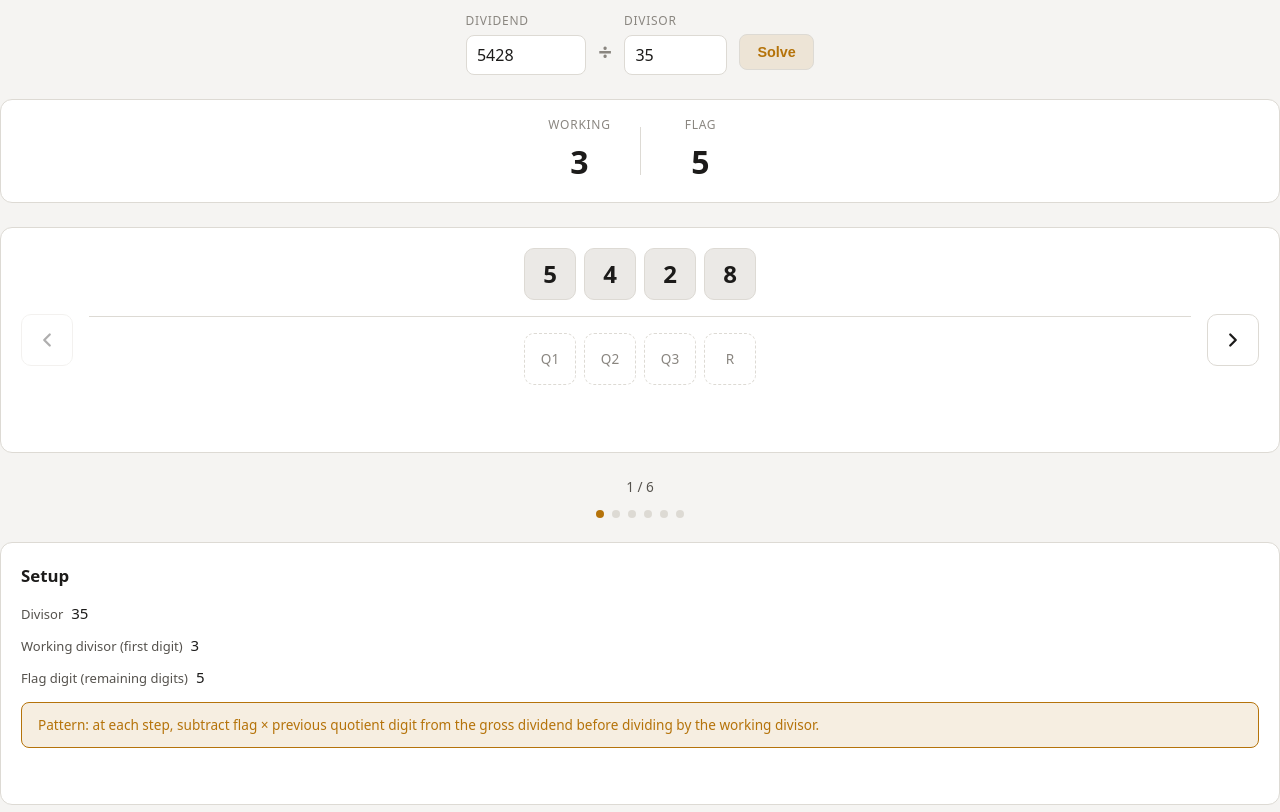
DhvajankaPage › edge case problems › the raw step shows the lookahead note and the adjusted step shows the reduction note
The width and height of the screenshot is (1280, 812).
What coordinates should you click on to do the following:
click the button named "Next step"
I would click on:
 (1233, 340)
Its box is 1207,314 -> 1259,366.
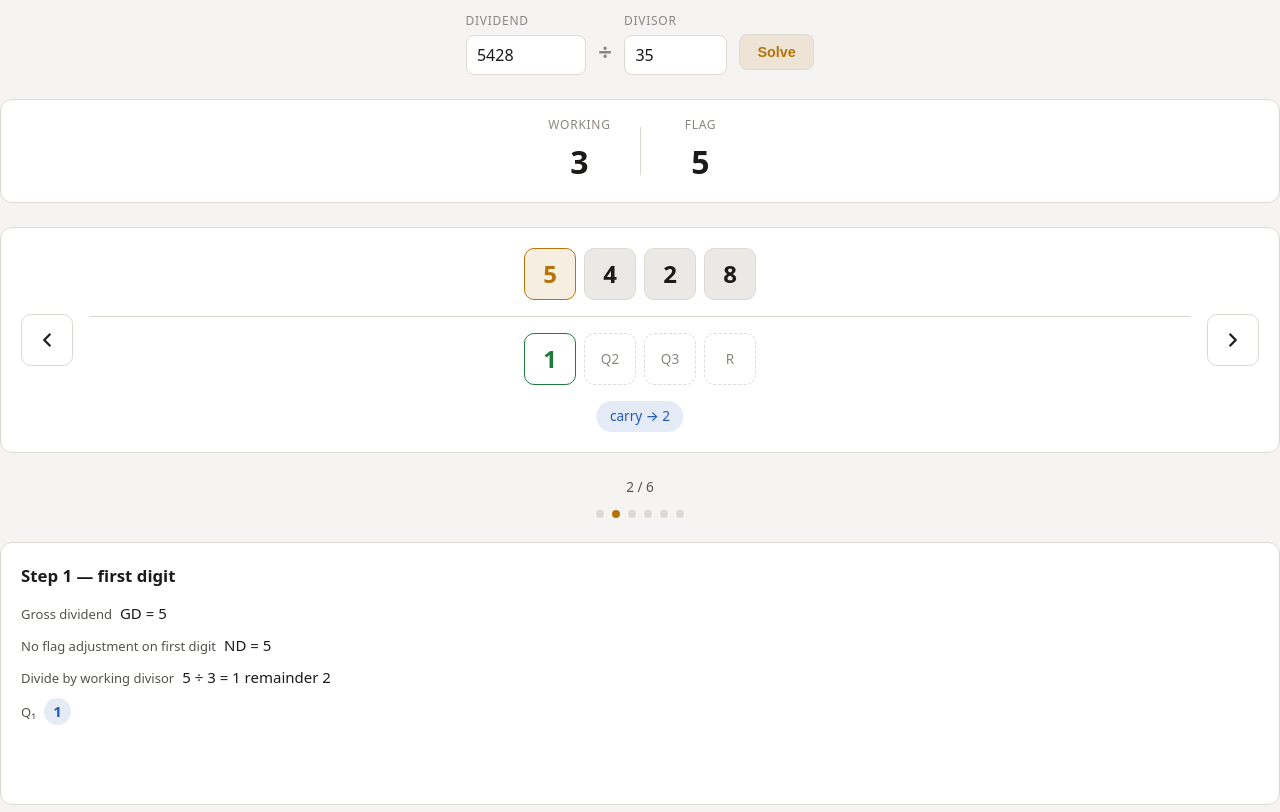
What coordinates should you click on to do the following:
click the button named "Next step"
I would click on:
 (1233, 340)
Its box is 1207,314 -> 1259,366.
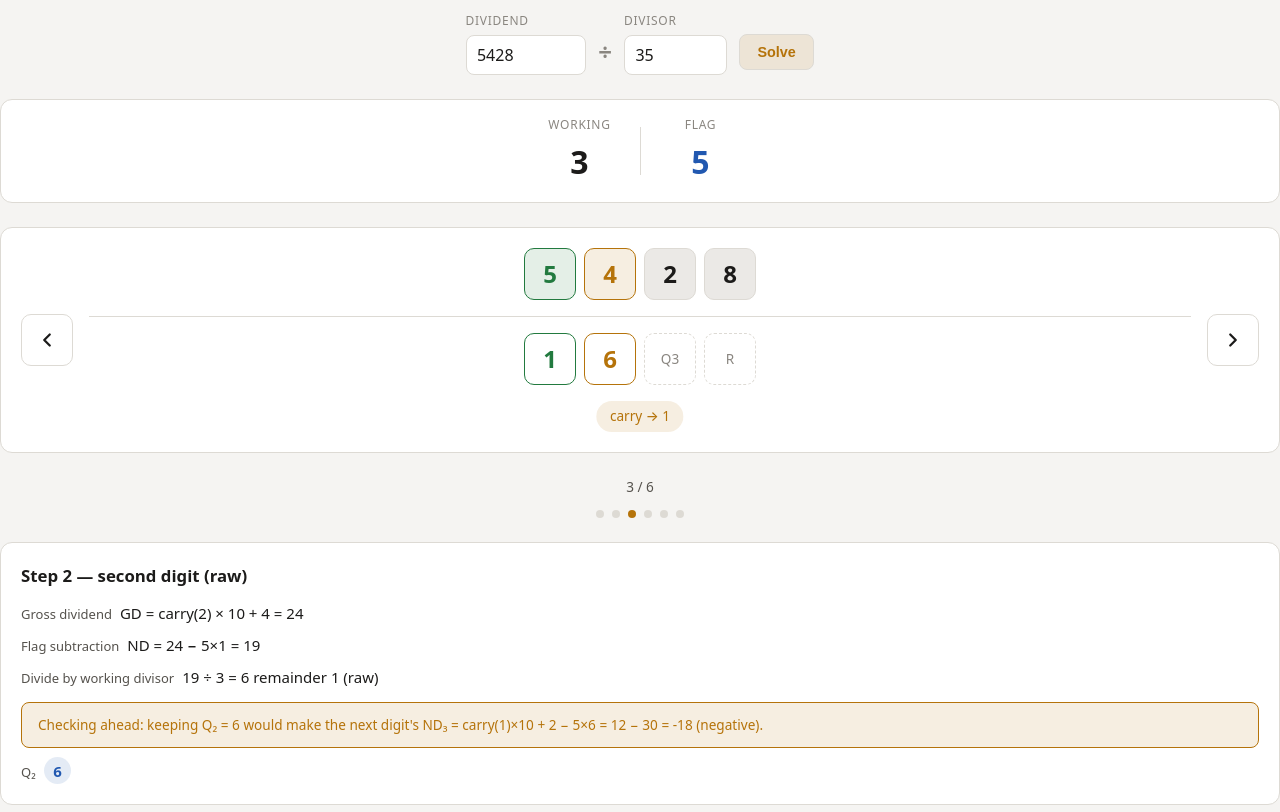
Expected: the text "3 / 6" is shown, 626,477 -> 654,496
What coordinates should you click on to do the following:
click the button named "Next step"
I would click on:
 (1233, 340)
Its box is 1207,314 -> 1259,366.
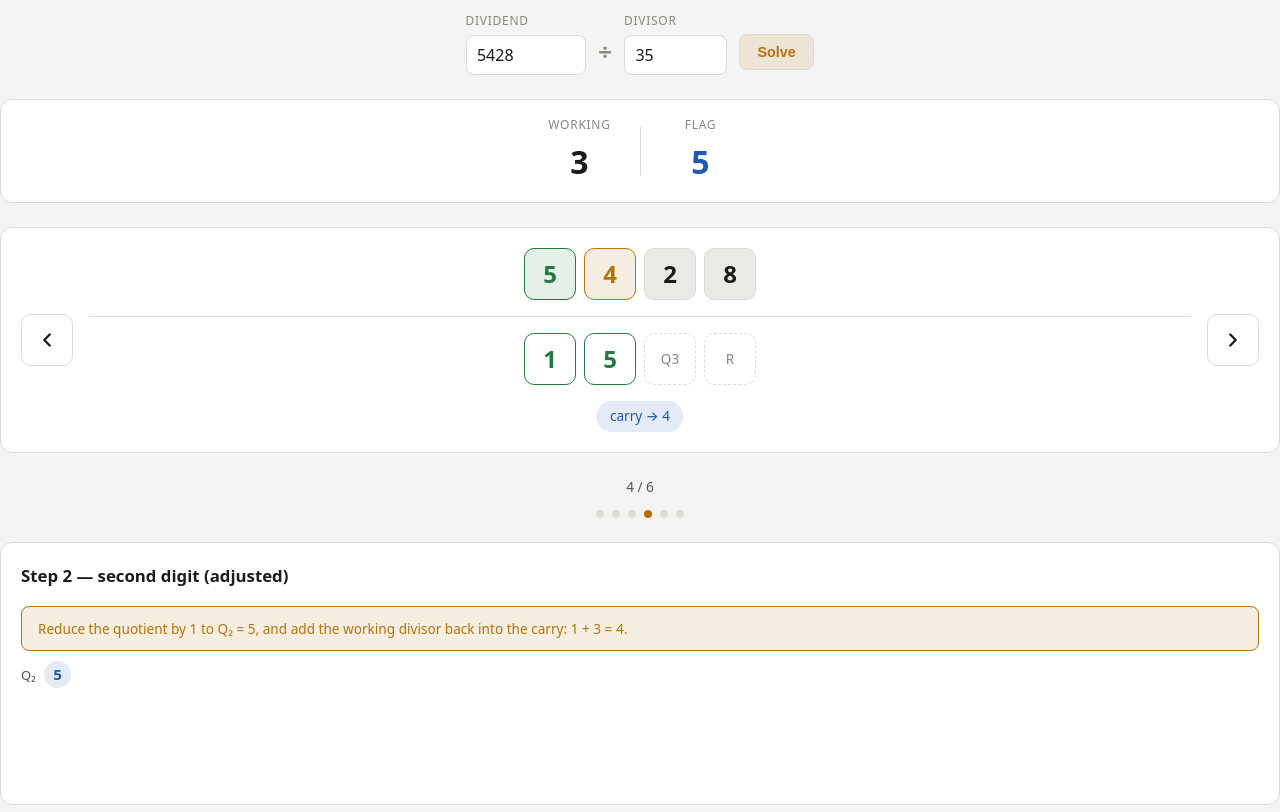
Expected: the text "4 / 6" is shown, 626,477 -> 654,496
